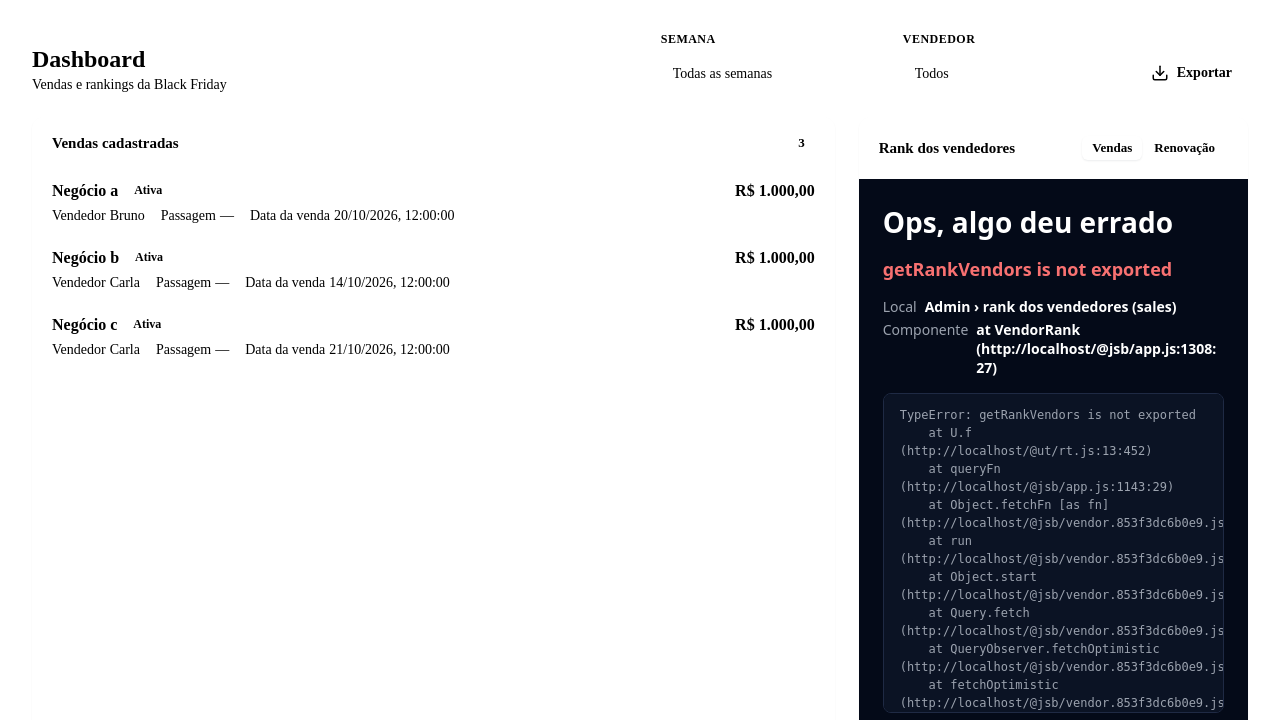
Test case: AdminPanel › filtros e exportação de vendas › avisa quando a exportação falha
Expected: the text "Negócio a" is shown, [52,182,118,200]
Click the button "Exportar" at (1191, 73), box [1135,53,1248,93]
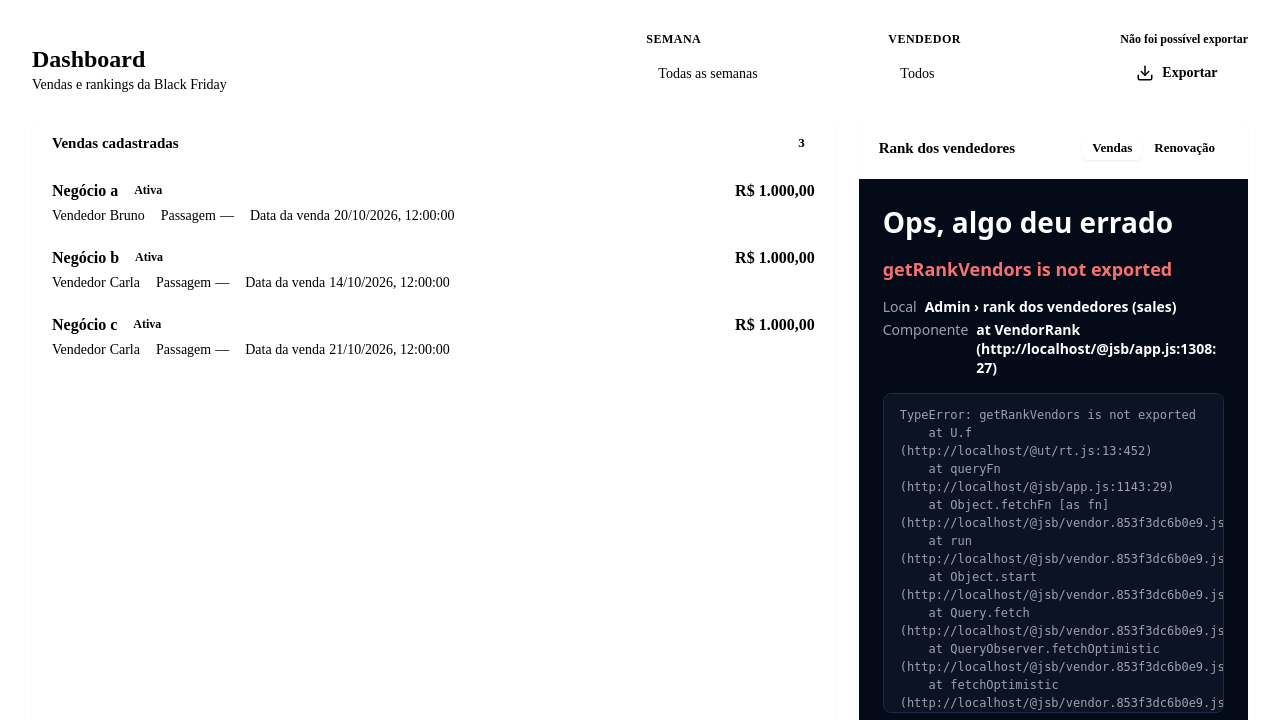
Expected: the text "Não foi possível exportar" is shown, [1120,32,1248,47]
